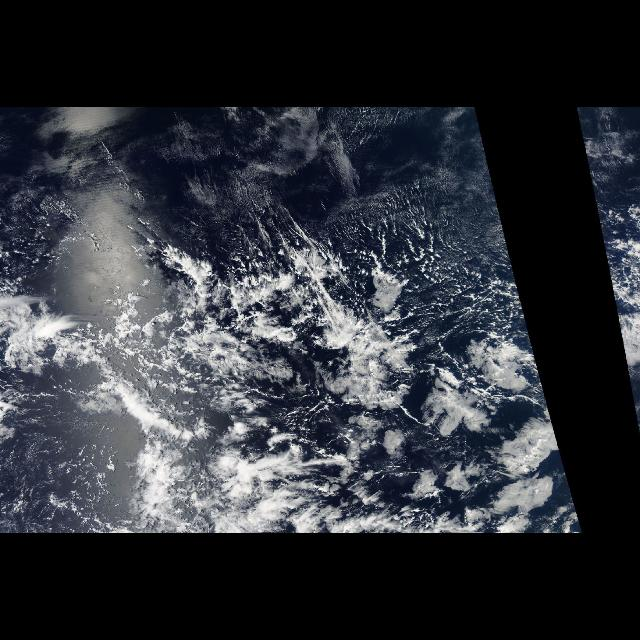Gravel: (194, 227, 548, 411)
Sugar: (150, 122, 504, 230)
